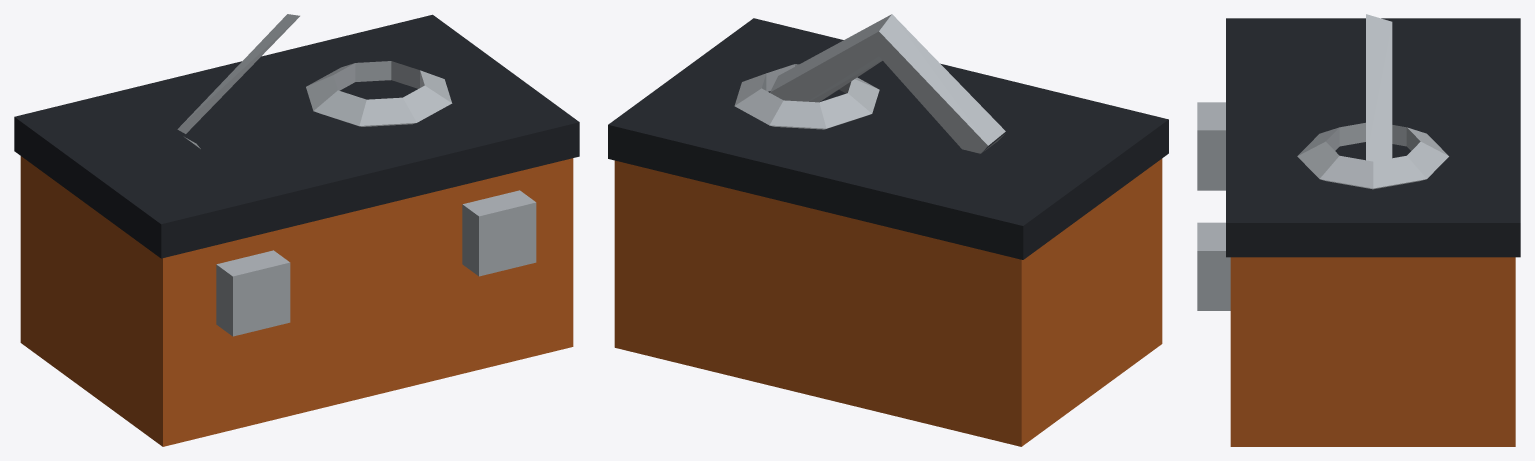
File: repair-kit.lod.glb
The picture shows the model from 3 angles, left to right: view 1: azimuth 30°, elevation 25°; view 2: azimuth 150°, elevation 25°; view 3: azimuth 270°, elevation 25°; orthographic projection.
Visible parts, largest first — view 1: m; view 2: m; view 3: m.
Boxes of the visible parts, left/top/right/bottom form: m: left=14, top=14, right=579, bottom=446; m: left=608, top=14, right=1168, bottom=446; m: left=1197, top=14, right=1520, bottom=446.
Size of the model in its own units: 0.1 by 0.0757 by 0.0667.
